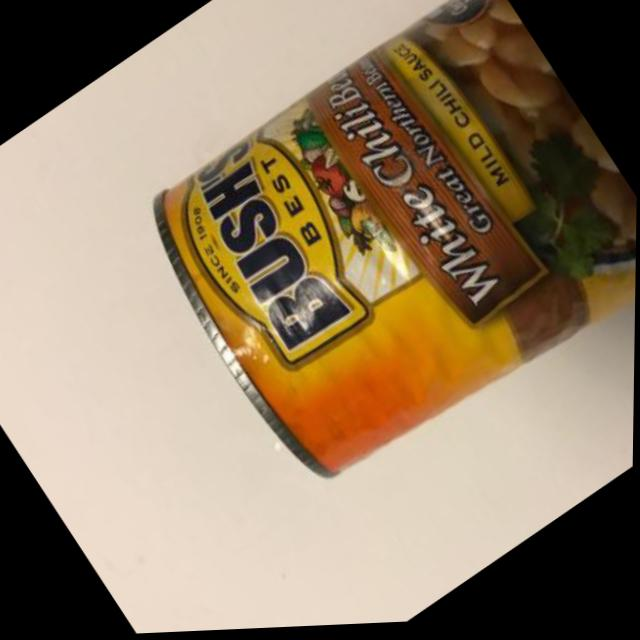metal: (121, 0, 634, 503)
